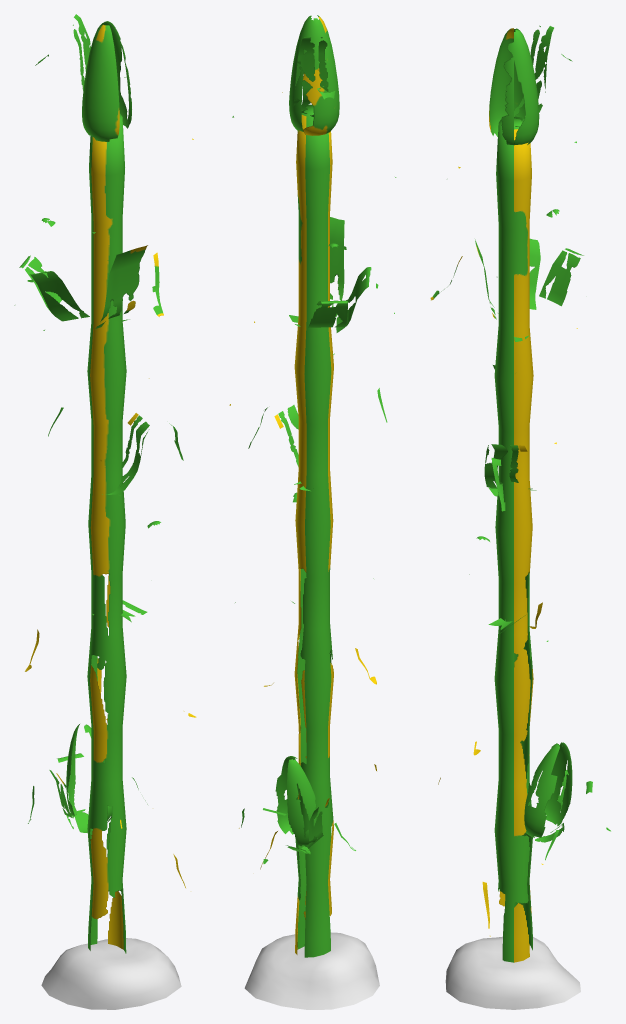
The model's file is SY-Mais.fbx.
The picture shows the model from 3 angles, left to right: view 1: azimuth 30°, elevation 25°; view 2: azimuth 150°, elevation 25°; view 3: azimuth 270°, elevation 25°; orthographic projection.
Parts seen in each view (by area): view 1: Mais, Cube; view 2: Mais, Cube; view 3: Mais, Cube.
Boxes of the visible parts, left/top/right/bottom form: Mais: left=14, top=14, right=196, bottom=953; Cube: left=41, top=938, right=181, bottom=1009; Mais: left=229, top=15, right=396, bottom=957; Cube: left=244, top=932, right=379, bottom=1009; Mais: left=430, top=25, right=610, bottom=962; Cube: left=445, top=936, right=580, bottom=1009.
Size of the model in its own units: 47.12 by 289 by 51.03.
